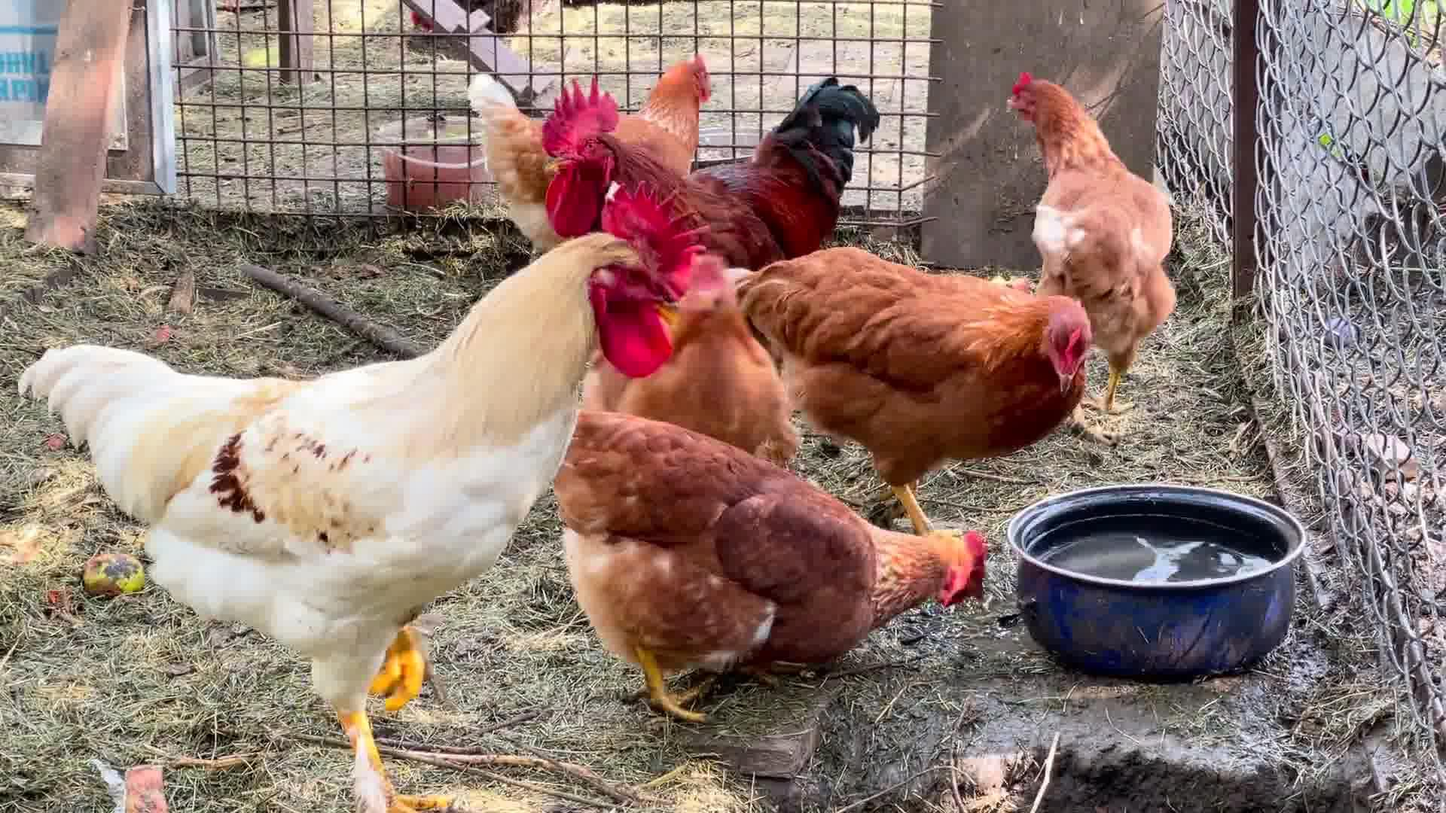Normal: (21, 185, 719, 813), (578, 397, 986, 727), (738, 224, 1097, 536), (539, 59, 887, 286), (998, 74, 1177, 419), (458, 25, 716, 224)
